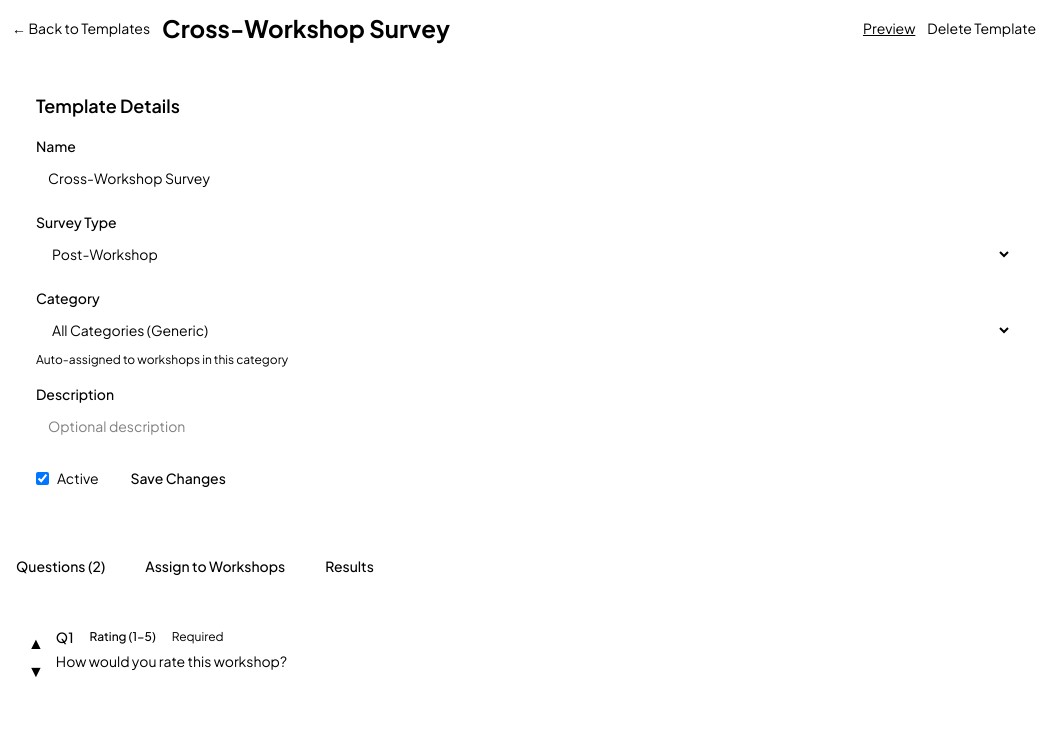
Test: SurveyTemplateEditor Results tab (BUG-MAY13-2 / Task B2) › renders the empty state when no surveys have been completed yet (filters by completedAt)
The width and height of the screenshot is (1048, 733).
Click the button "Results" at (350, 566), box left=321, top=544, right=378, bottom=588
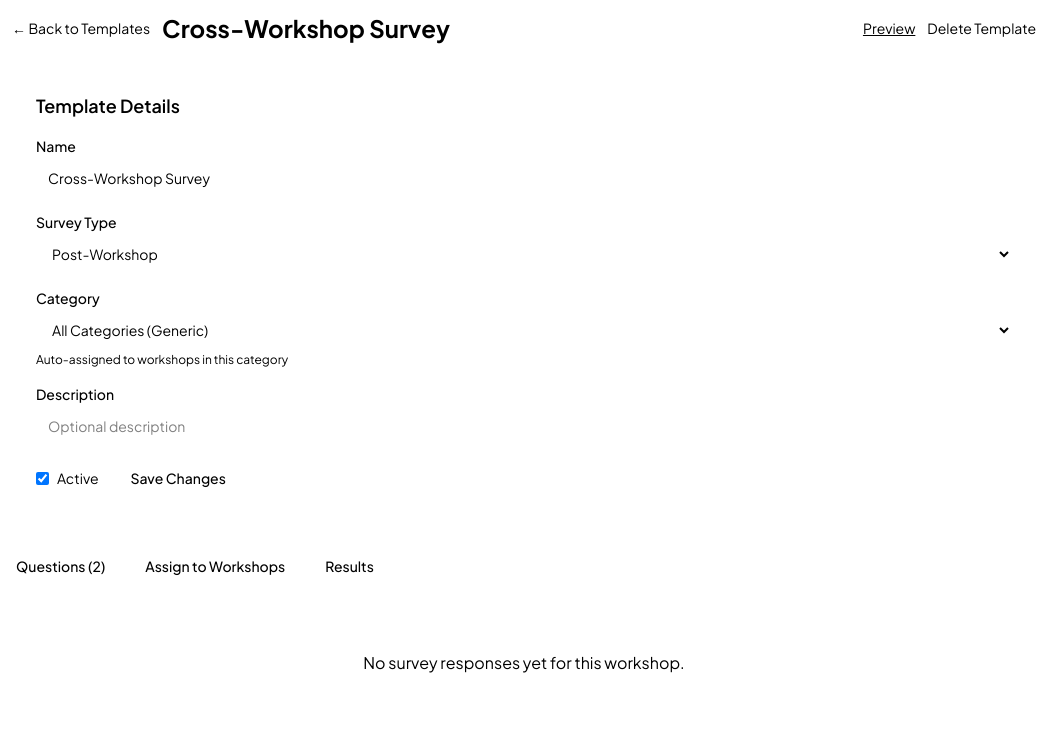
Expected: the text "No survey responses yet for this workshop." is shown, left=363, top=652, right=685, bottom=673
